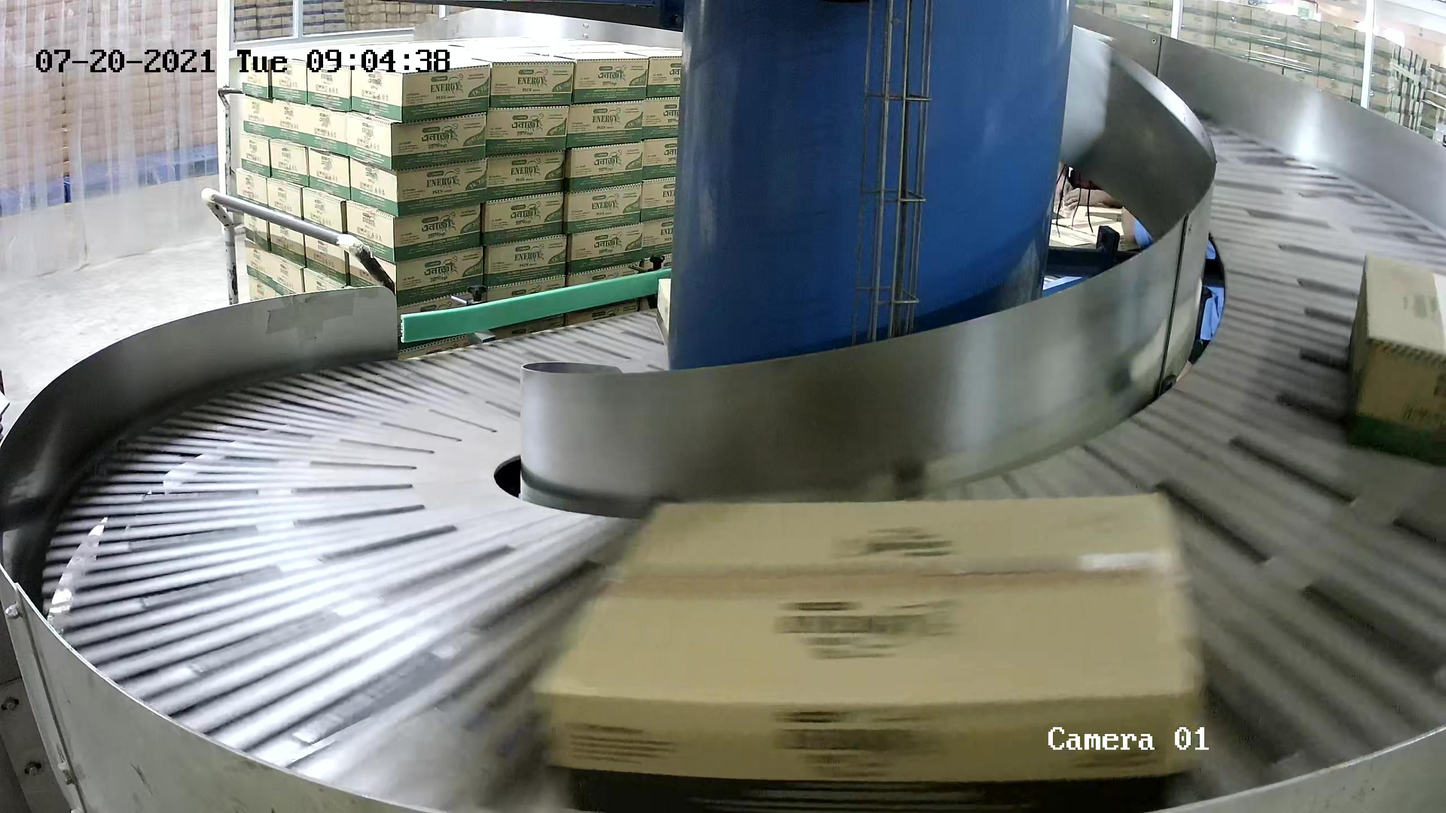Box: (524, 487, 1215, 813), (1345, 250, 1446, 466)
